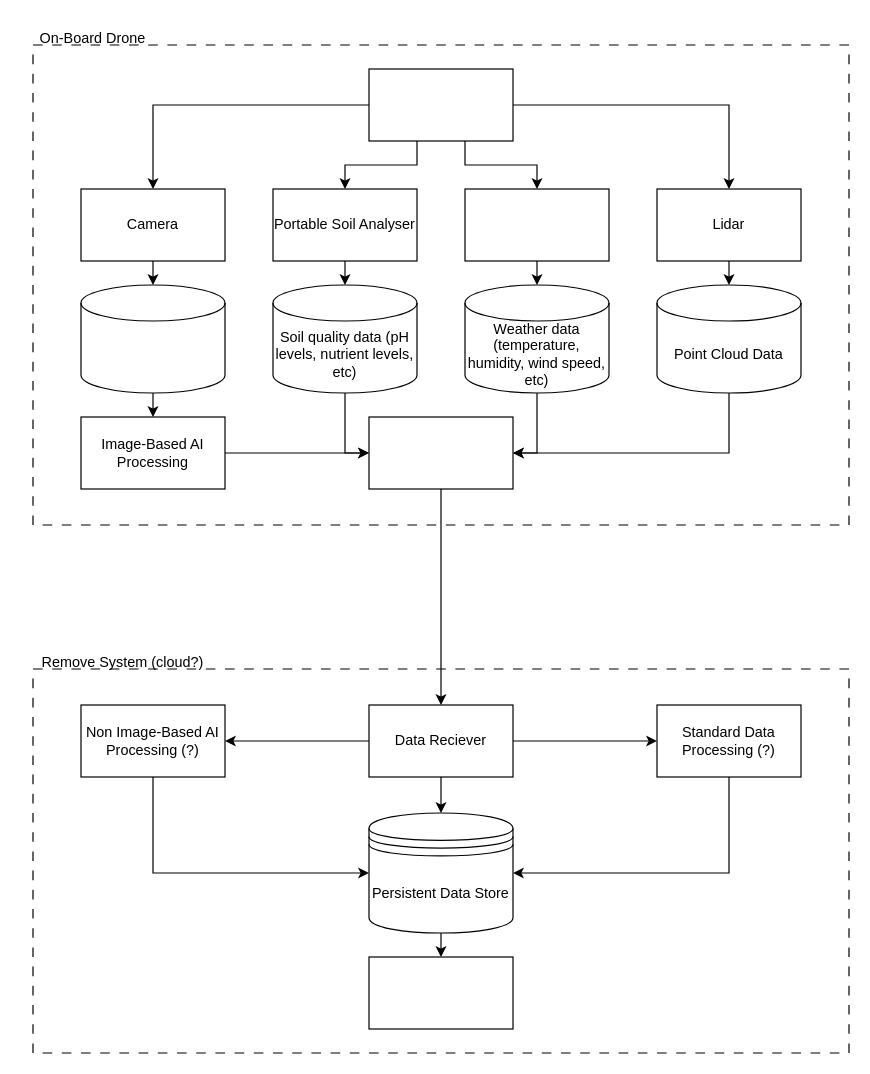
This 870x1074 diagram has some shape labels left out. Here are the shapes that lost their labels. From the top down, the centre of each, then its label:
point 440,104: Sensors
point 536,224: Smart Weather Station
point 152,338: Image Data
point 440,452: Data Transmitter
point 440,992: Python WebApp
